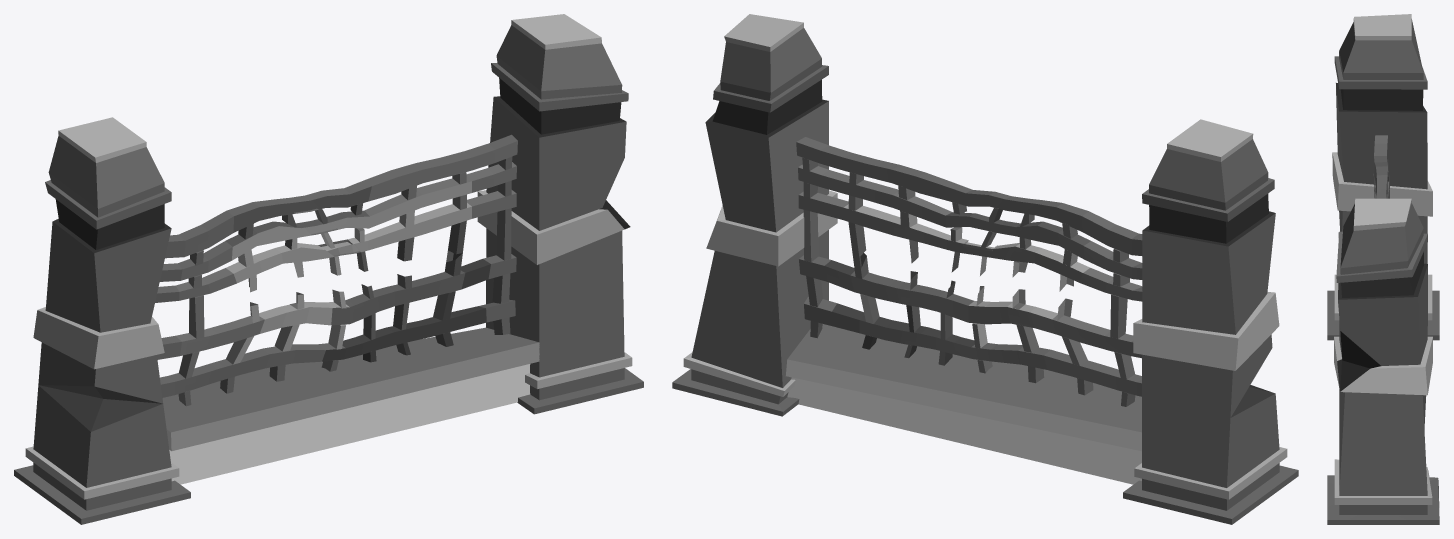
Rendered from Fence-2.fbx.
3 views of the same model, side by side, from view 1: azimuth 30°, elevation 25°; view 2: azimuth 150°, elevation 25°; view 3: azimuth 270°, elevation 25° (orthographic). The views are drawn at different scales.
Visible parts, largest first — view 1: Fence_2; view 2: Fence_2; view 3: Fence_2.
Boxes of the visible parts, <box> form: Fence_2: <box>14,14,643,524</box>; Fence_2: <box>672,14,1298,524</box>; Fence_2: <box>1327,14,1439,524</box>.
Bounding box in the file's own units: 1321 × 793 × 273.
1 material, 1 textured.
